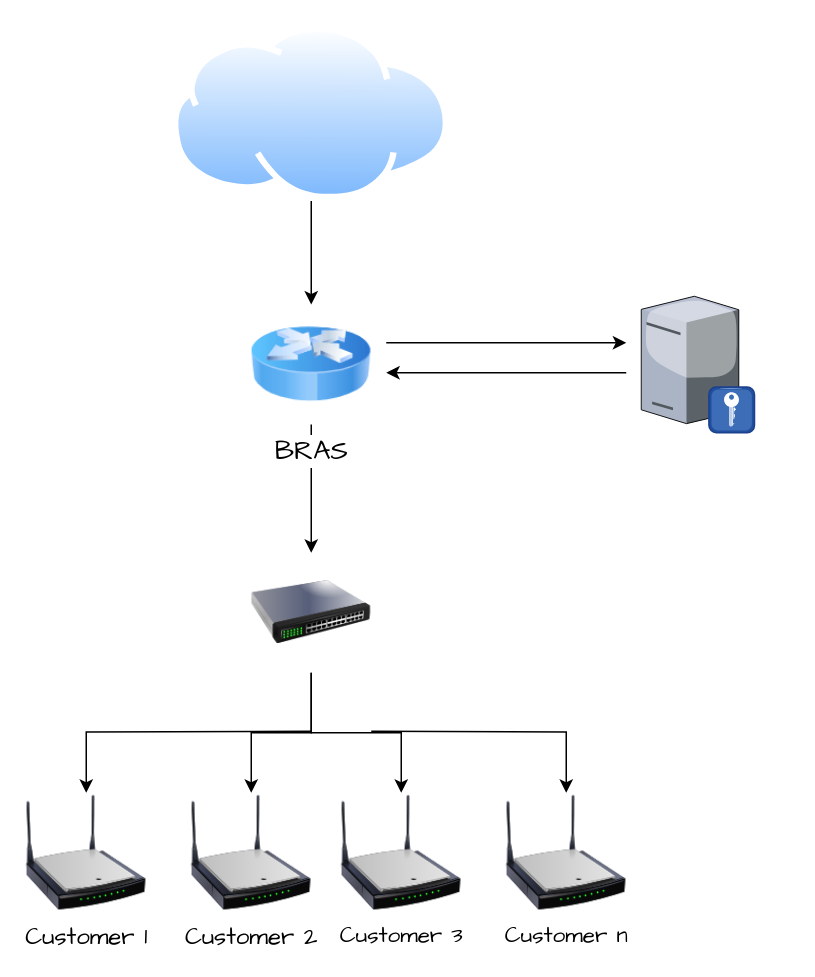
This 815x977 diagram has some shape labels left out. The box of each missing label's shape, as (x1, y1, x2, y2) in pixels:
Internet: (172, 26, 449, 200)
OLT: (250, 552, 370, 672)
Radius Server: (640, 296, 754, 432)
